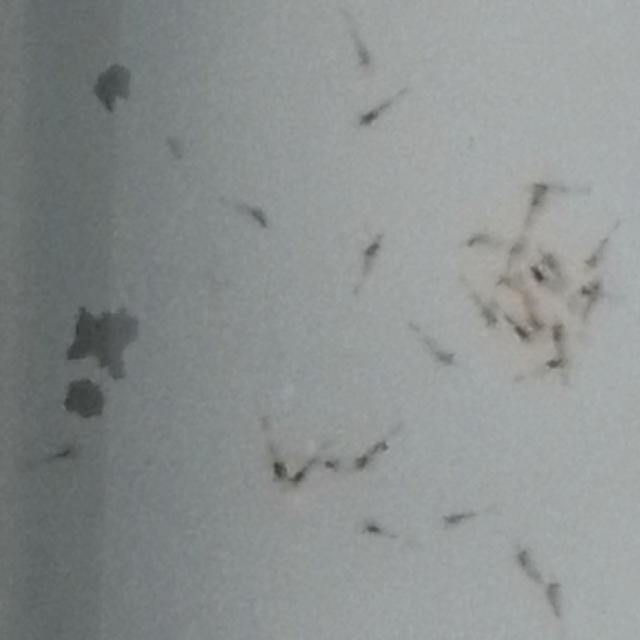shrimp-seed: (356, 98, 394, 130), (430, 346, 460, 372), (352, 38, 376, 70), (245, 205, 275, 230), (48, 438, 78, 463), (522, 178, 566, 195), (359, 237, 382, 267), (442, 506, 472, 528), (528, 182, 548, 212), (546, 581, 562, 615), (479, 302, 498, 330), (466, 232, 488, 256), (289, 462, 309, 488), (369, 438, 394, 458), (512, 322, 533, 344), (361, 517, 383, 537), (529, 262, 549, 284), (352, 452, 373, 472), (544, 354, 565, 374), (317, 455, 339, 474), (268, 456, 288, 476), (496, 270, 516, 290), (514, 546, 529, 572), (549, 321, 565, 345), (583, 248, 600, 270), (542, 250, 560, 270), (522, 314, 542, 332), (504, 242, 523, 258), (590, 280, 604, 298), (578, 284, 589, 296)
